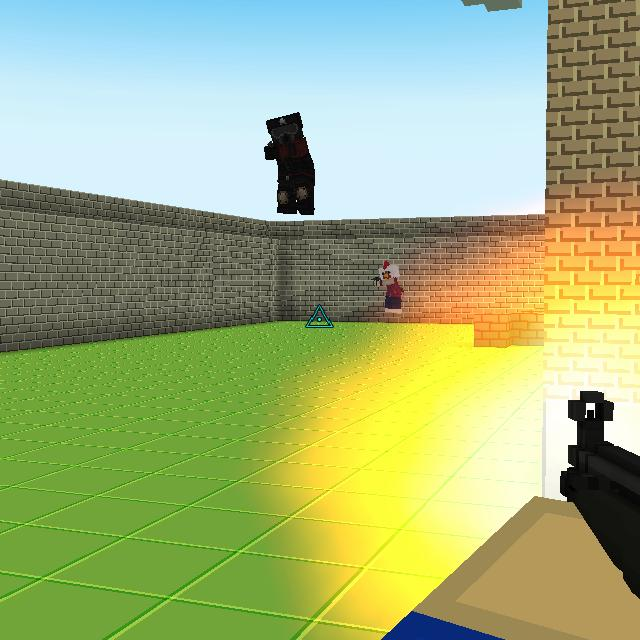enemy: (261, 106, 319, 217), (373, 259, 405, 313)
